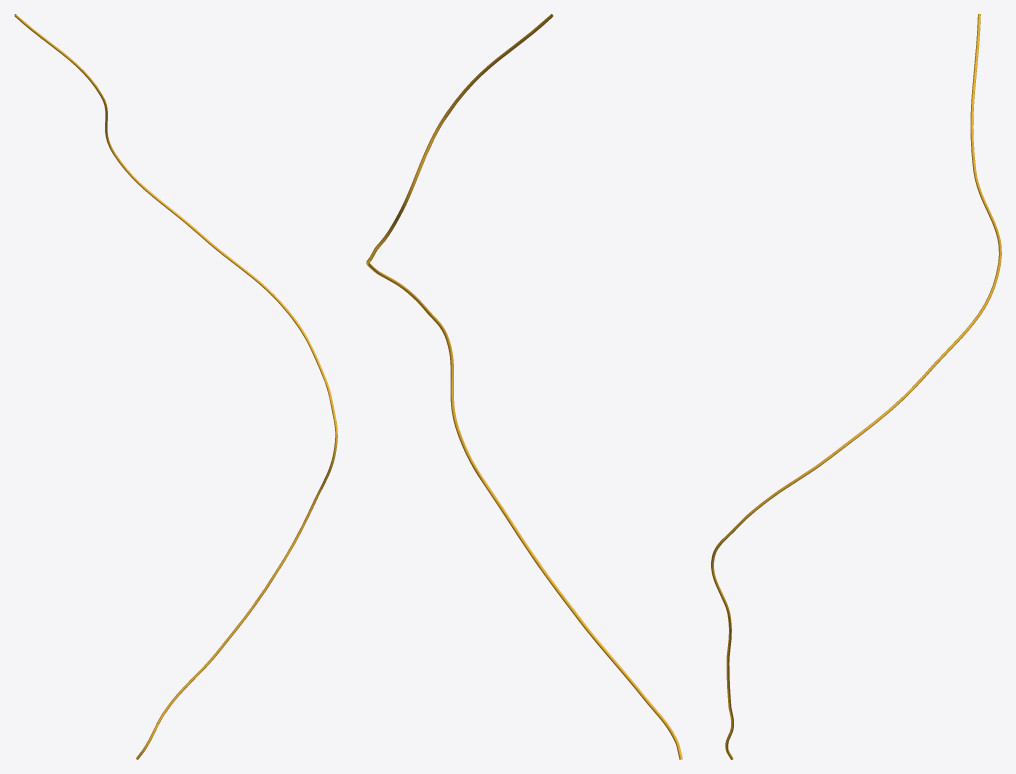
Rendered from nervoso-ilio-inguinal-nerve-l.glb.
3 views of the same model, side by side, from view 1: azimuth 30°, elevation 25°; view 2: azimuth 150°, elevation 25°; view 3: azimuth 270°, elevation 25° (orthographic). The views are drawn at different scales.
Visible parts, largest first — view 1: Ilio-inguinal nerve.l; view 2: Ilio-inguinal nerve.l; view 3: Ilio-inguinal nerve.l.
Boxes of the visible parts, x1,y1,x2,y2 form: Ilio-inguinal nerve.l: [14, 14, 337, 759]; Ilio-inguinal nerve.l: [366, 14, 682, 759]; Ilio-inguinal nerve.l: [711, 14, 1001, 759].
Size of the model in its own units: 0.0916 by 0.2747 by 0.0978.
